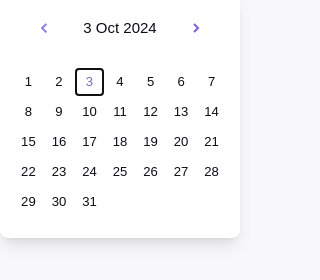
it: Calendar.tsx › should cycle steps correctly
The width and height of the screenshot is (320, 280).
Step 1. Click the button with test id "fullDateBtn" → (120, 28), box top-left (83, 16), bottom-right (157, 39)
(page scrolled)
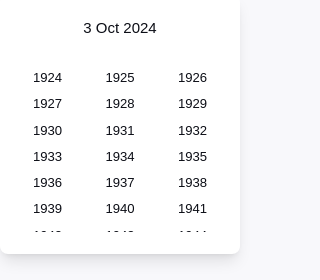
Expected: the list with test id "yearList" is shown, top-left (15, 69), bottom-right (225, 232)
Step 2. Click the button "1924" → (48, 78), box top-left (15, 69), bottom-right (80, 88)
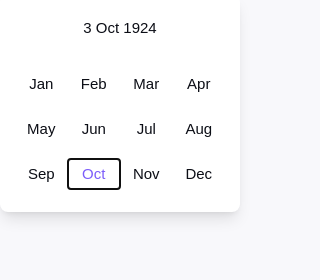
Expected: the list with test id "monthList" is shown, top-left (15, 69), bottom-right (225, 189)
Step 3. Click the button "Jan" → (41, 84), box top-left (15, 69), bottom-right (68, 99)
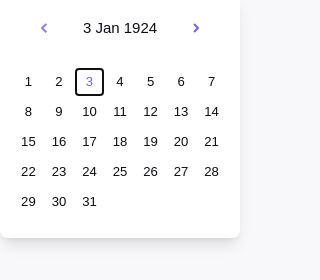
Expected: the list with test id "dayList" is shown, top-left (15, 69), bottom-right (225, 215)
